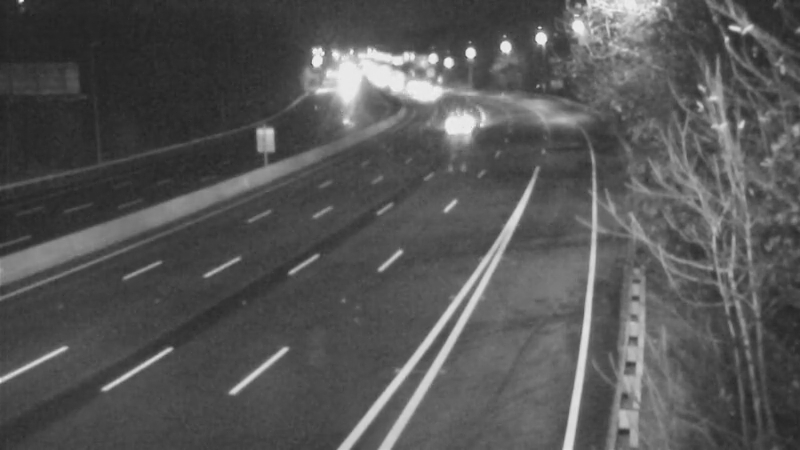vehicle: (407, 66, 457, 116), (391, 70, 441, 120), (433, 102, 483, 152)
